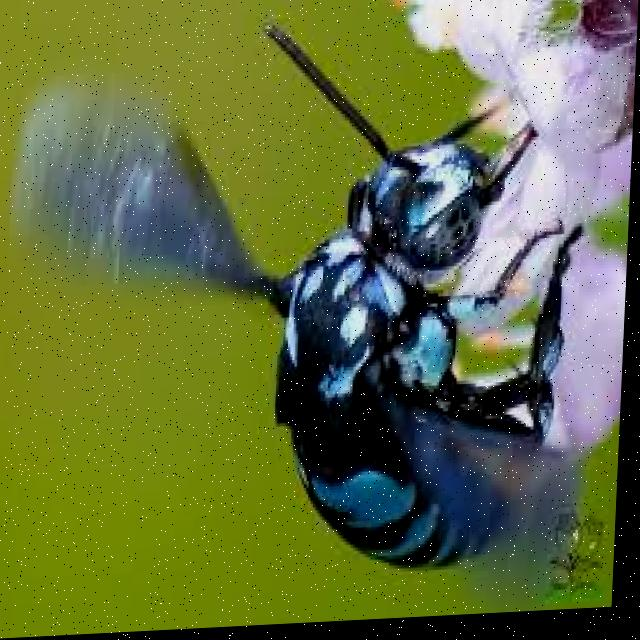Thyreus: (54, 13, 602, 600)
